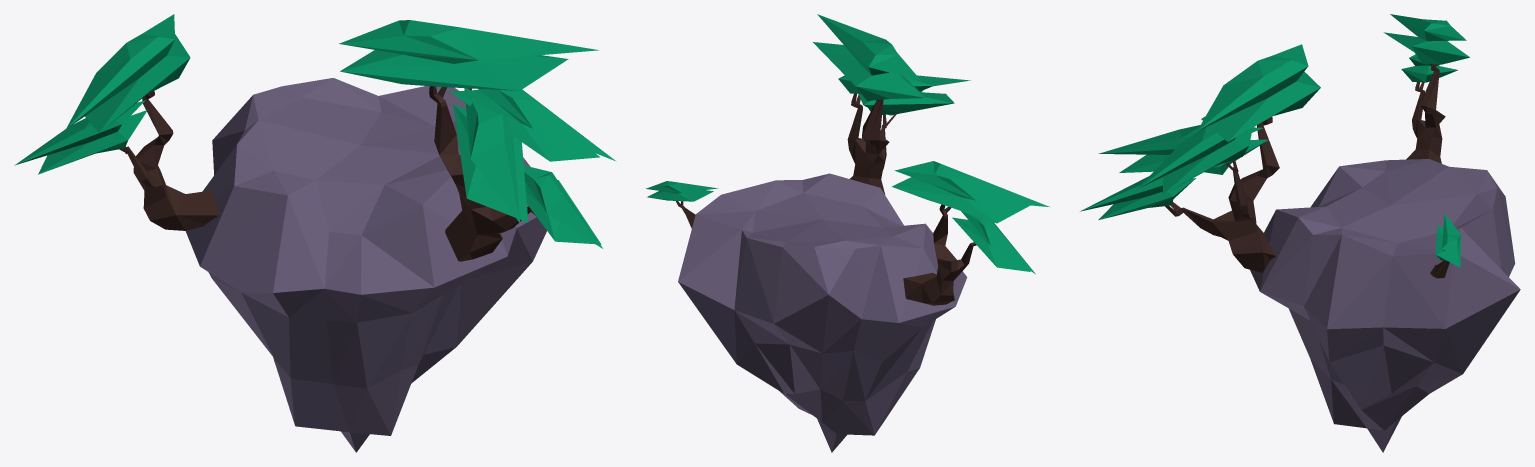
File: floating-island2.dae
The picture shows the model from 3 angles, left to right: view 1: azimuth 30°, elevation 25°; view 2: azimuth 150°, elevation 25°; view 3: azimuth 270°, elevation 25°; orthographic projection. The views are drawn at different scales.
Parts seen in each view (by area): view 1: large_island, foliage3, foliage3_001, foliage0_001, foliage2, tree_trunk, tree_trunk_001, foliage2_001, foliage0; view 2: large_island, foliage3, foliage3_001, tree_trunk, tree_trunk_001, foliage2_001, foliage0_001, foliage2_002; view 3: large_island, foliage3, tree_trunk, foliage2, foliage3_001, foliage0_001, tree_trunk_001, foliage0, foliage2_002, foliage2_001.
Boxes of the visible parts, <box> form: large_island: <box>185,78,546,452</box>; foliage3: <box>339,20,598,90</box>; foliage3_001: <box>66,14,190,132</box>; foliage0_001: <box>453,88,528,223</box>; foliage2: <box>450,89,616,161</box>; tree_trunk: <box>429,86,535,261</box>; tree_trunk_001: <box>119,91,219,230</box>; foliage2_001: <box>14,100,147,174</box>; foliage0: <box>523,165,602,248</box>; large_island: <box>678,173,967,452</box>; foliage3: <box>813,14,925,100</box>; foliage3_001: <box>892,161,1050,223</box>; tree_trunk: <box>847,93,896,194</box>; tree_trunk_001: <box>903,204,976,305</box>; foliage2_001: <box>952,211,1035,273</box>; foliage0_001: <box>858,75,970,114</box>; foliage2_002: <box>646,181,718,201</box>; large_island: <box>1250,159,1520,452</box>; foliage3: <box>1197,44,1320,141</box>; tree_trunk: <box>1165,117,1279,272</box>; foliage2: <box>1137,126,1252,194</box>; foliage3_001: <box>1383,14,1469,64</box>; foliage0_001: <box>1098,125,1268,174</box>; tree_trunk_001: <box>1406,64,1445,163</box>; foliage0: <box>1080,176,1195,220</box>; foliage2_002: <box>1435,213,1461,267</box>; foliage2_001: <box>1401,54,1457,82</box>.
Bounding box in the file's own units: 24.5 × 22.7 × 22.25.
